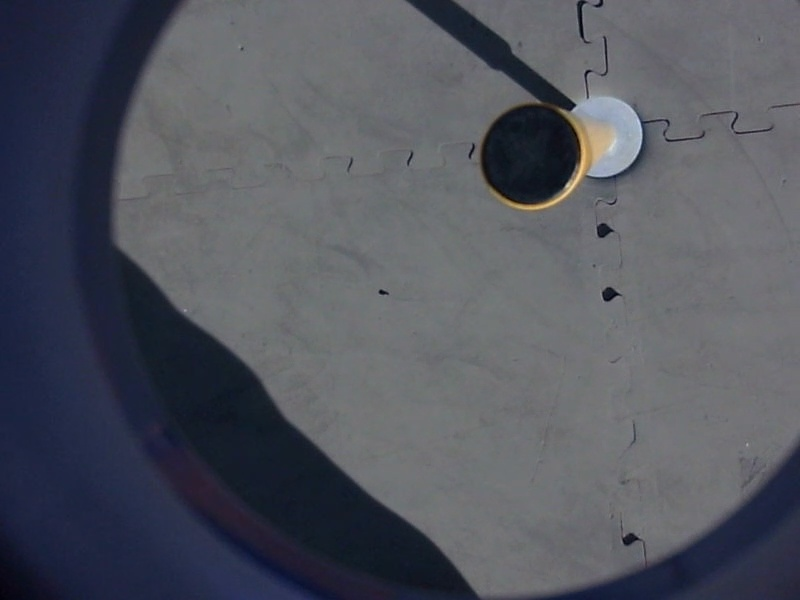tip: (470, 97, 591, 220)
